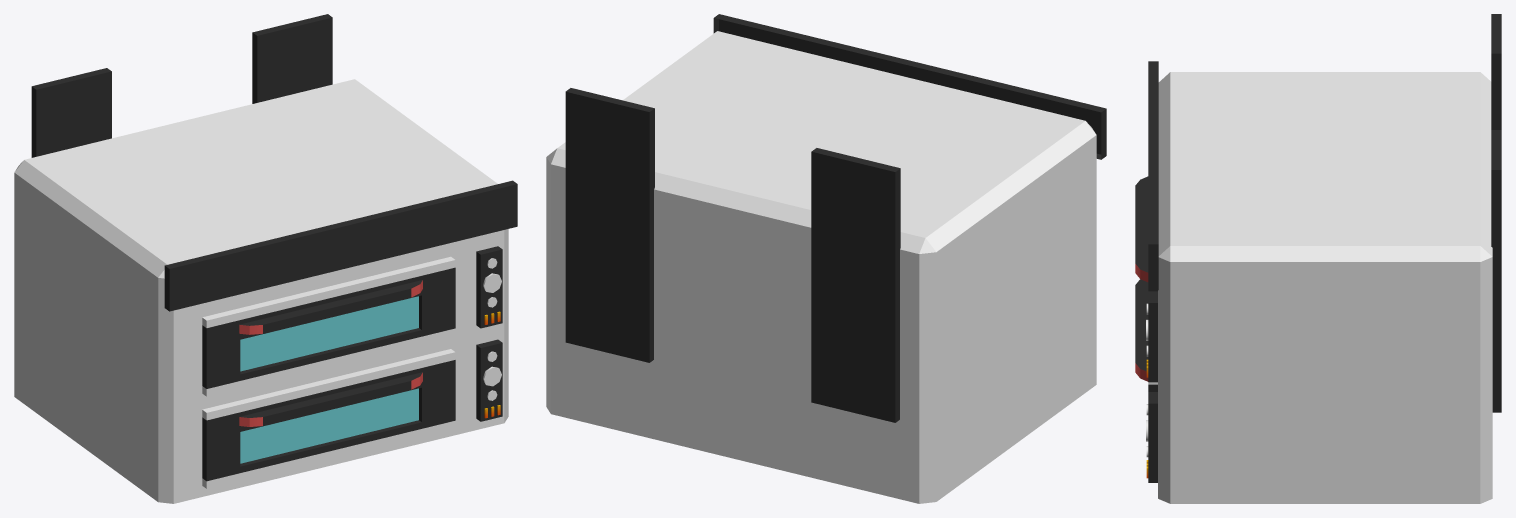
The model's file is Map02_Beppizza_LV3.fbx.
The picture shows the model from 3 angles, left to right: view 1: azimuth 30°, elevation 25°; view 2: azimuth 150°, elevation 25°; view 3: azimuth 270°, elevation 25°; orthographic projection. The views are drawn at different scales.
Parts seen in each view (by area): view 1: Map02_Beppizza_LV3; view 2: Map02_Beppizza_LV3; view 3: Map02_Beppizza_LV3.
Part boxes in pixels (x1,y1,x2,y2): Map02_Beppizza_LV3: (14,14,517,503); Map02_Beppizza_LV3: (546,14,1106,503); Map02_Beppizza_LV3: (1135,14,1501,503).
Size of the model in its own units: 106 by 85.43 by 88.6.
